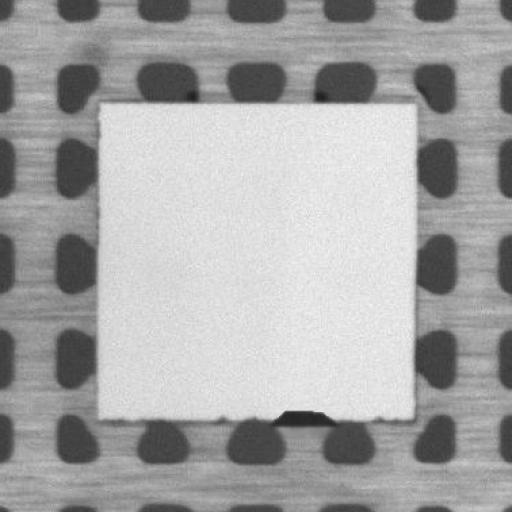DIE_BROKEN: (268, 406, 335, 426)
